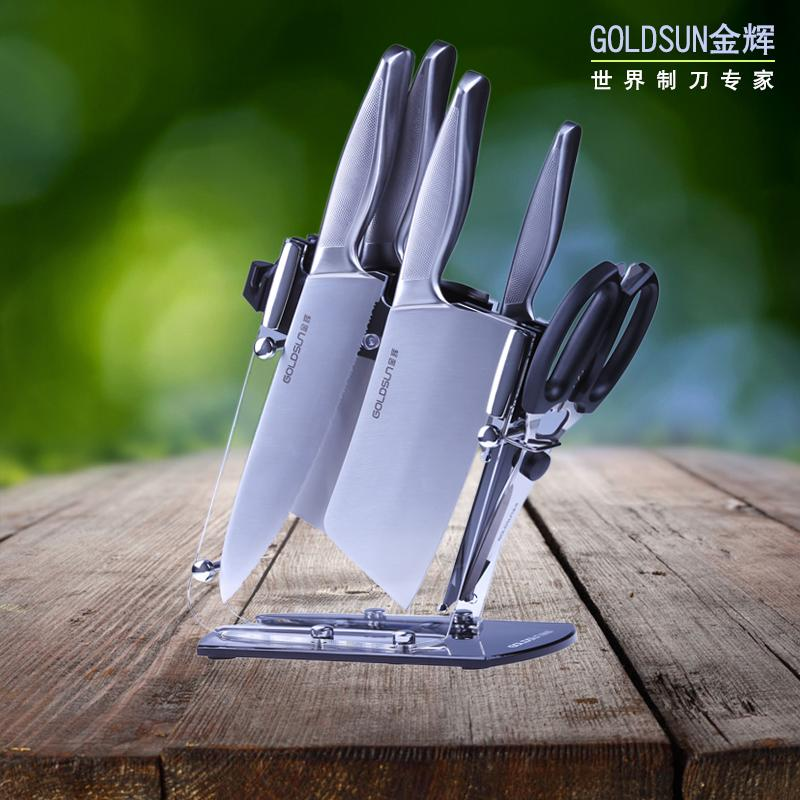knife: (183, 22, 498, 682)
